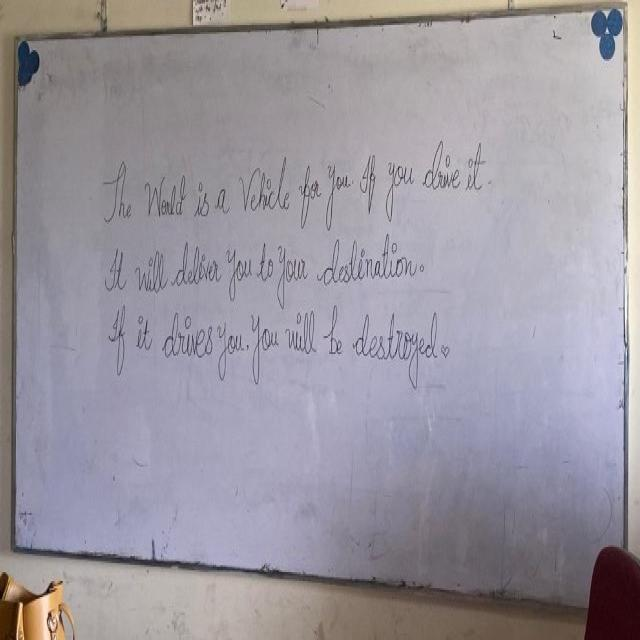White-board: (16, 8, 630, 613)
